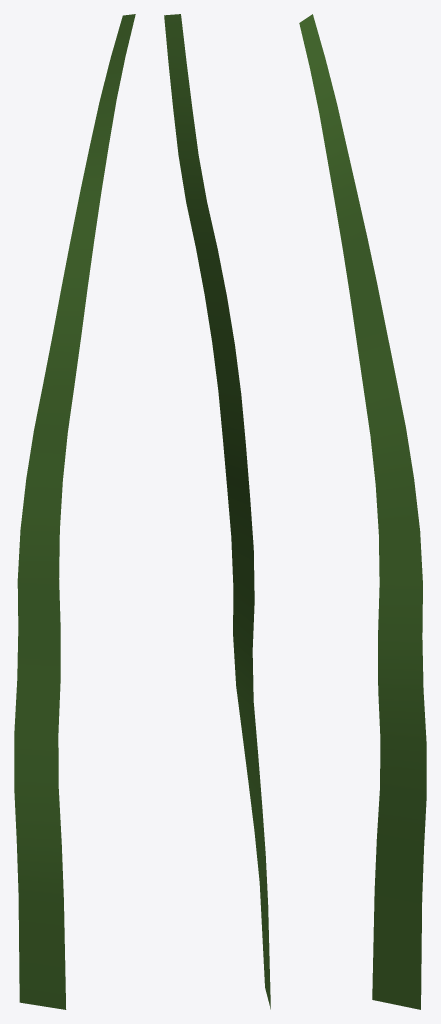
The model's file is plant_swamp_kelp_giant_B_solo_E.fbx.
3 renders of one model, left to right at view 1: azimuth 90°, elevation 25°; view 2: azimuth 210°, elevation 25°; view 3: azimuth 270°, elevation 25°, orthographic. The views are drawn at different scales.
Parts seen in each view (by area): view 1: plant_swamp_kelp_giant_B_solo_E; view 2: plant_swamp_kelp_giant_B_solo_E; view 3: plant_swamp_kelp_giant_B_solo_E.
Boxes of the visible parts, x1=… form: plant_swamp_kelp_giant_B_solo_E: x1=14, y1=14, x2=135, y2=1009; plant_swamp_kelp_giant_B_solo_E: x1=164, y1=14, x2=270, y2=1009; plant_swamp_kelp_giant_B_solo_E: x1=299, y1=14, x2=426, y2=1009.
Bounding box in the file's own units: 27.09 × 374 × 42.54.
